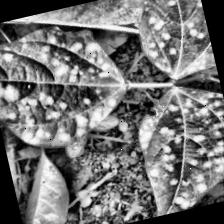Bean Rust: (0, 11, 136, 159), (113, 76, 224, 220), (129, 0, 216, 82)
